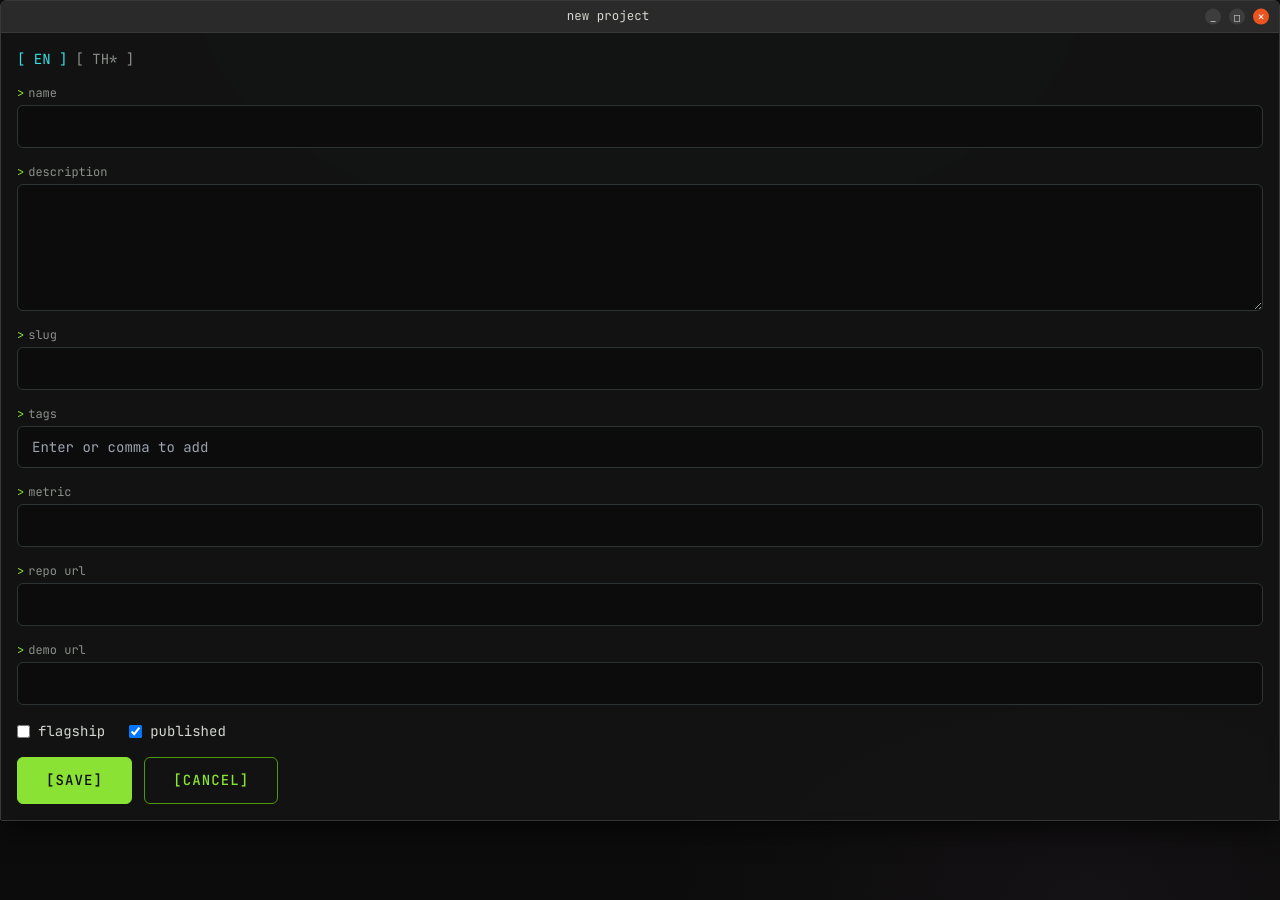
Test: switches to the language tab holding a server error and shows it
Type "Thai Err" into the field labelled "name".
click(640, 126); type("Thai Err")  # box [17,105,1263,148]
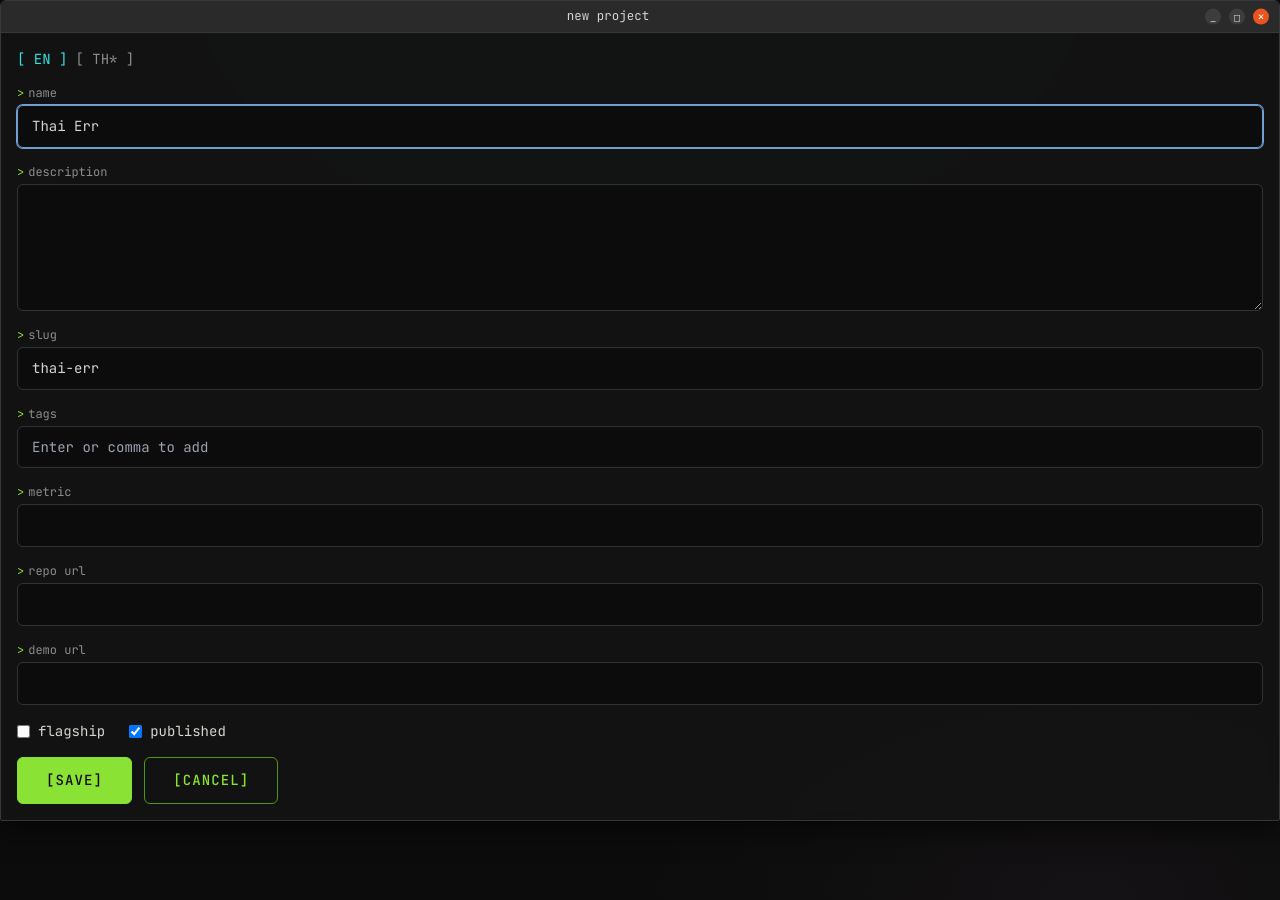
Click the button "[save]".
click(75, 780)  # box [17,757,132,804]
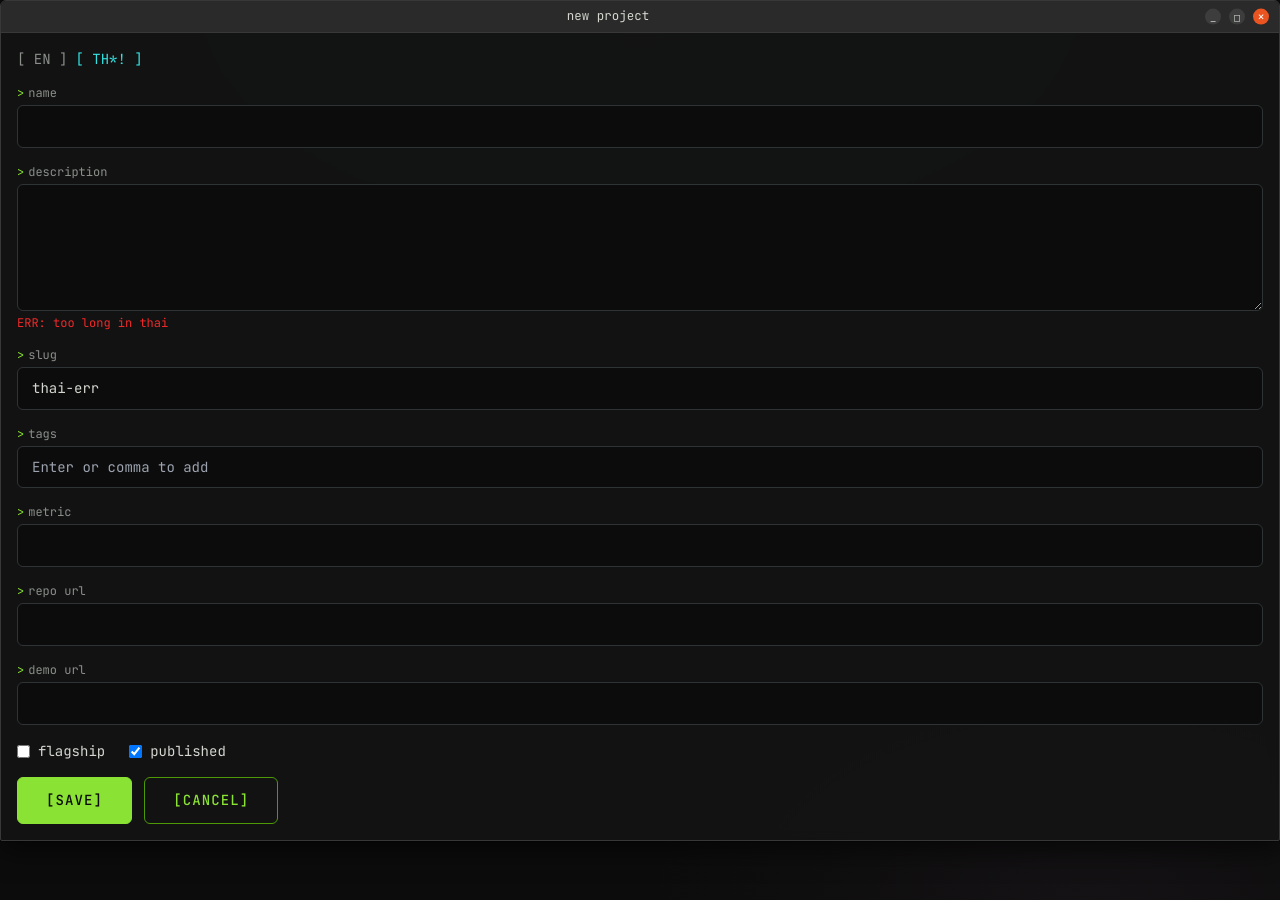
Check: the text "ERR: too long in thai" is shown, box [17,315,168,331]
